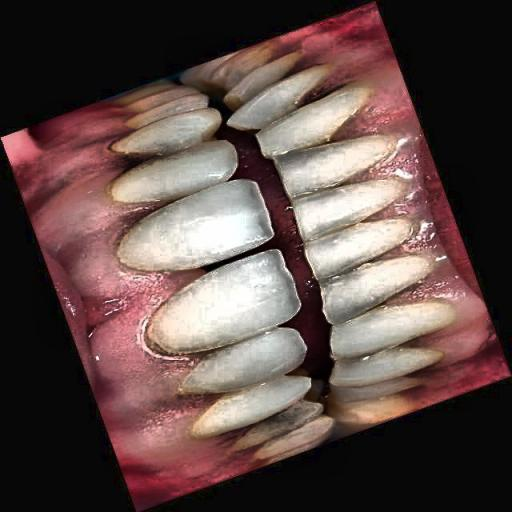Healthy: (109, 95, 441, 400)
